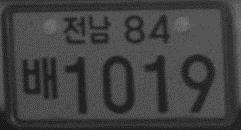0: (101, 53, 136, 113)
1: (142, 53, 169, 115), (63, 55, 90, 115)
4: (148, 12, 172, 45)
8: (122, 14, 147, 44)
9: (179, 52, 216, 114)
배: (21, 55, 58, 100)
전남_H: (61, 13, 111, 45)
